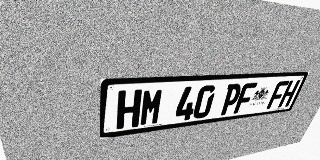0: (192, 85, 217, 119)
4: (174, 86, 199, 122)
F: (233, 82, 258, 114), (266, 81, 290, 109)
H: (116, 89, 142, 130), (277, 80, 301, 108)
M: (139, 88, 165, 126)
P: (219, 83, 243, 116)
